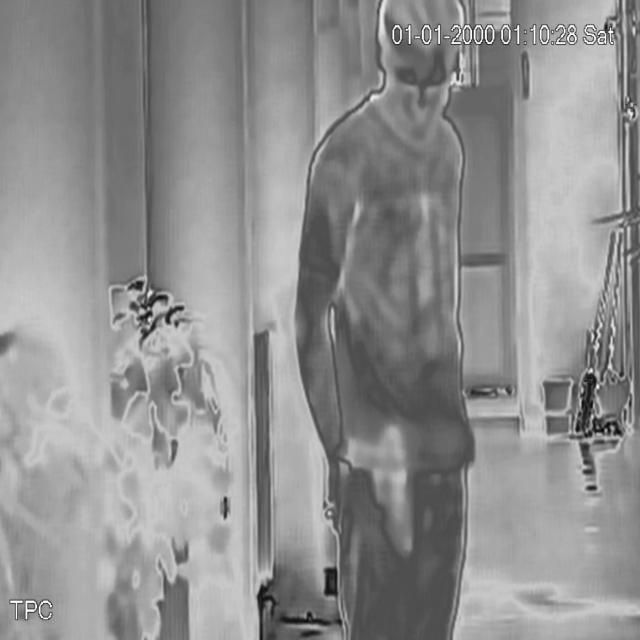Weapon: (338, 426, 429, 561)
